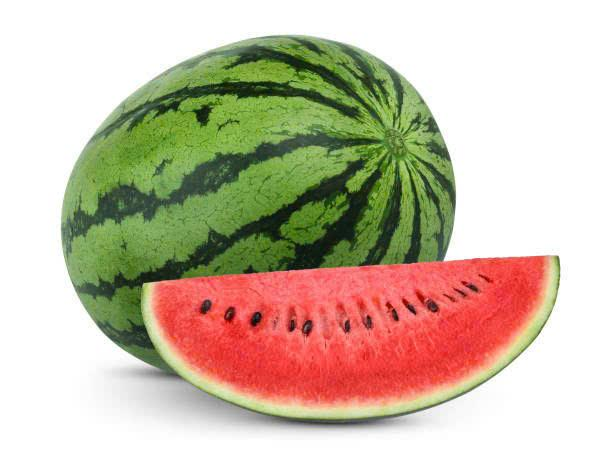watermelon: (29, 22, 484, 280), (123, 254, 588, 436)
